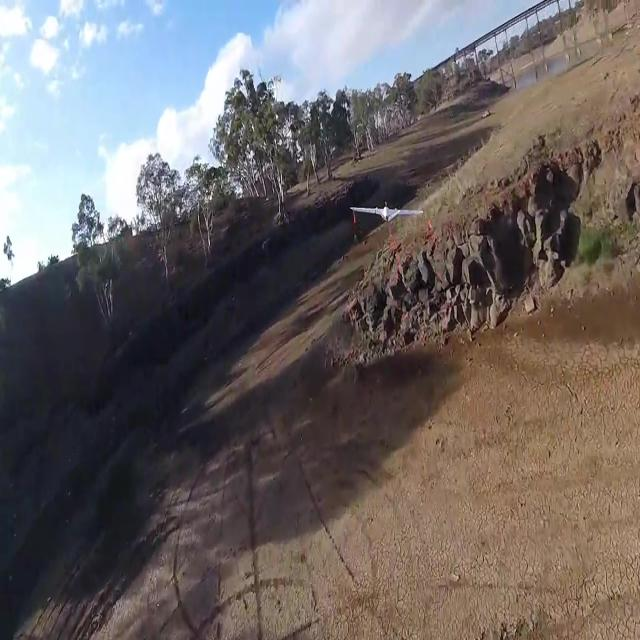iha: (385, 204, 389, 229)
